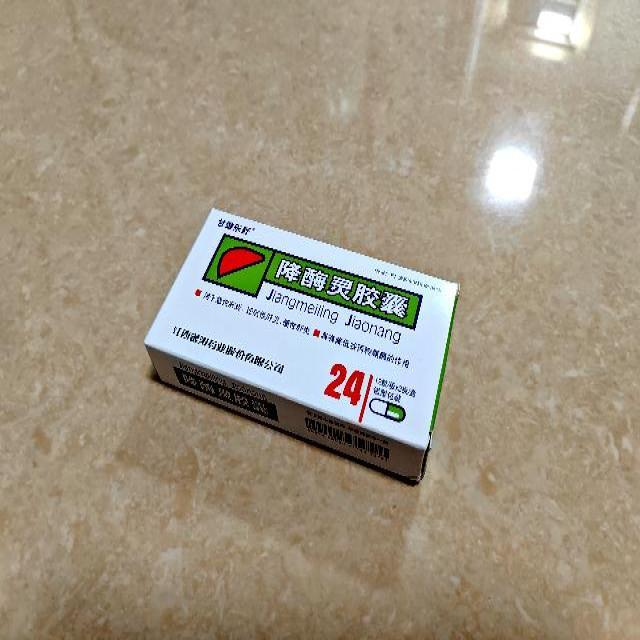box: (145, 205, 459, 483)
